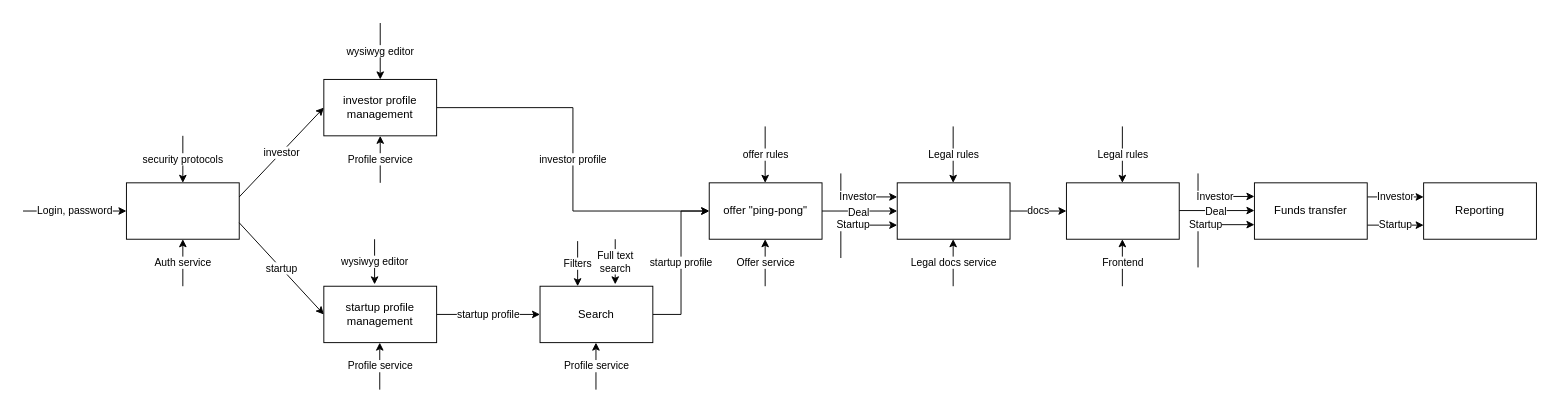
This 1553x414 diagram has some shape labels left out. The centre of each missing label's shape, as x and y in pixels:
"legal doc generation" belongs at pixel 953 210.
"legal doc signing" belongs at pixel 1122 210.
"registration" belongs at pixel 182 210.
